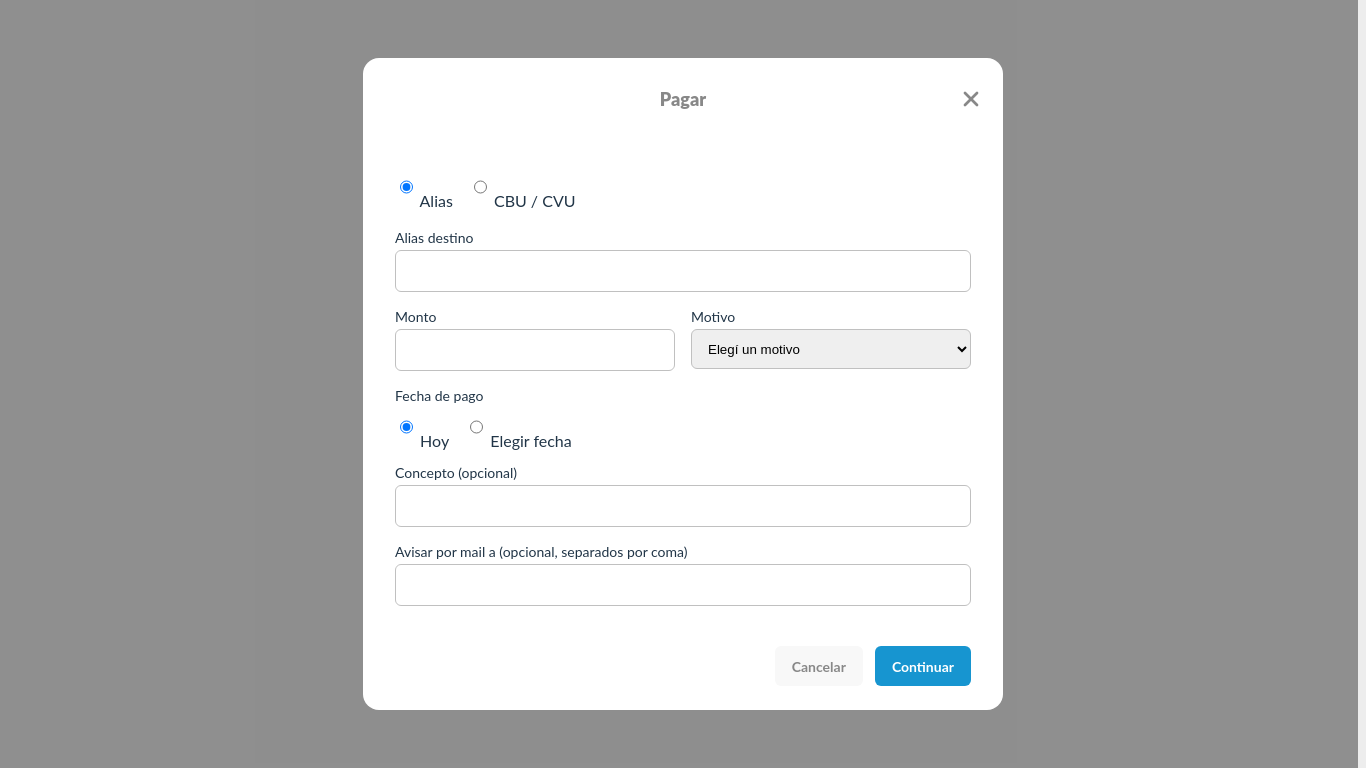
it: PaymentModal › arranca en Hoy y pide la fecha cuando se elige programarlo
expect the radio button labelled "Hoy" is checked: met, box 400,406 -> 413,446
Step 1. Type "prov.alias" into the field labelled "Alias destino" → {"x": 683, "y": 271}, box 395,250 -> 971,292
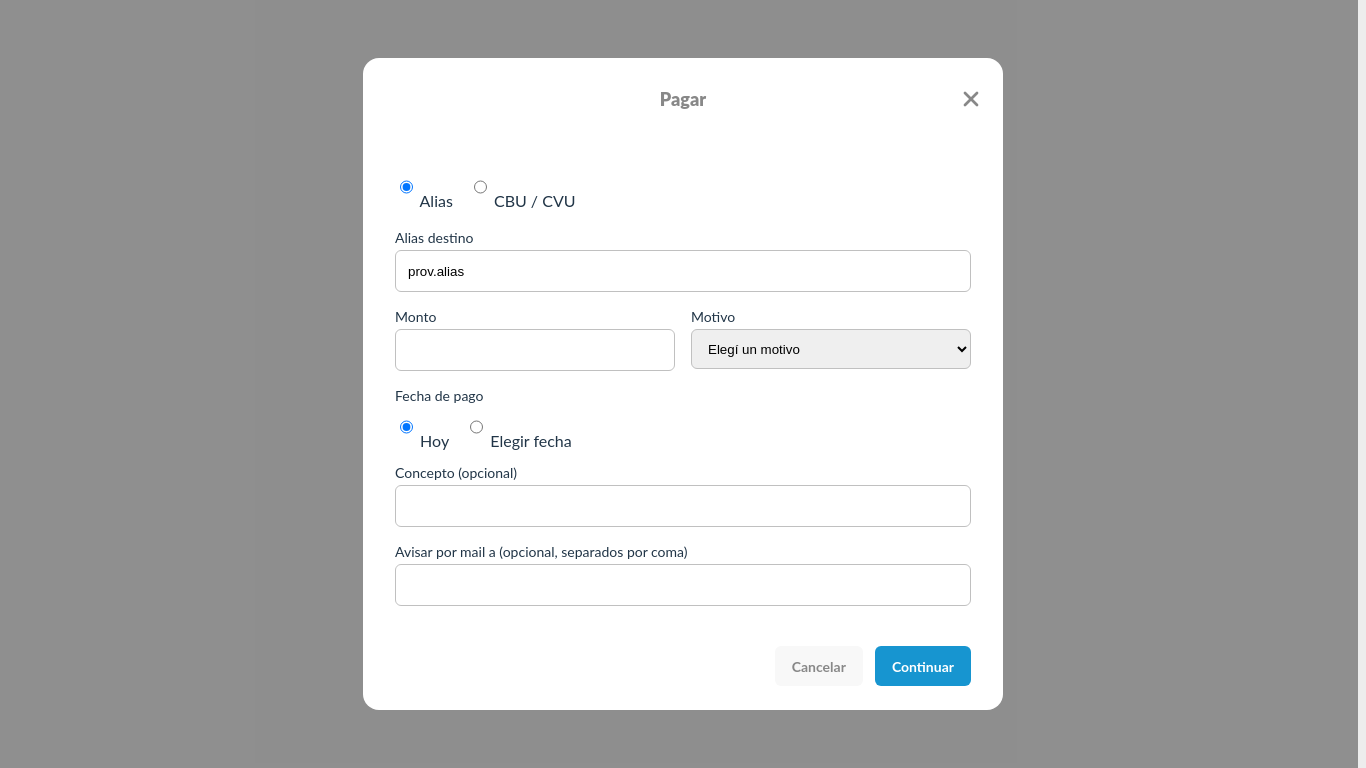
Step 2. Type "100" into the number field labelled "Monto" → {"x": 535, "y": 350}, box 395,329 -> 675,371
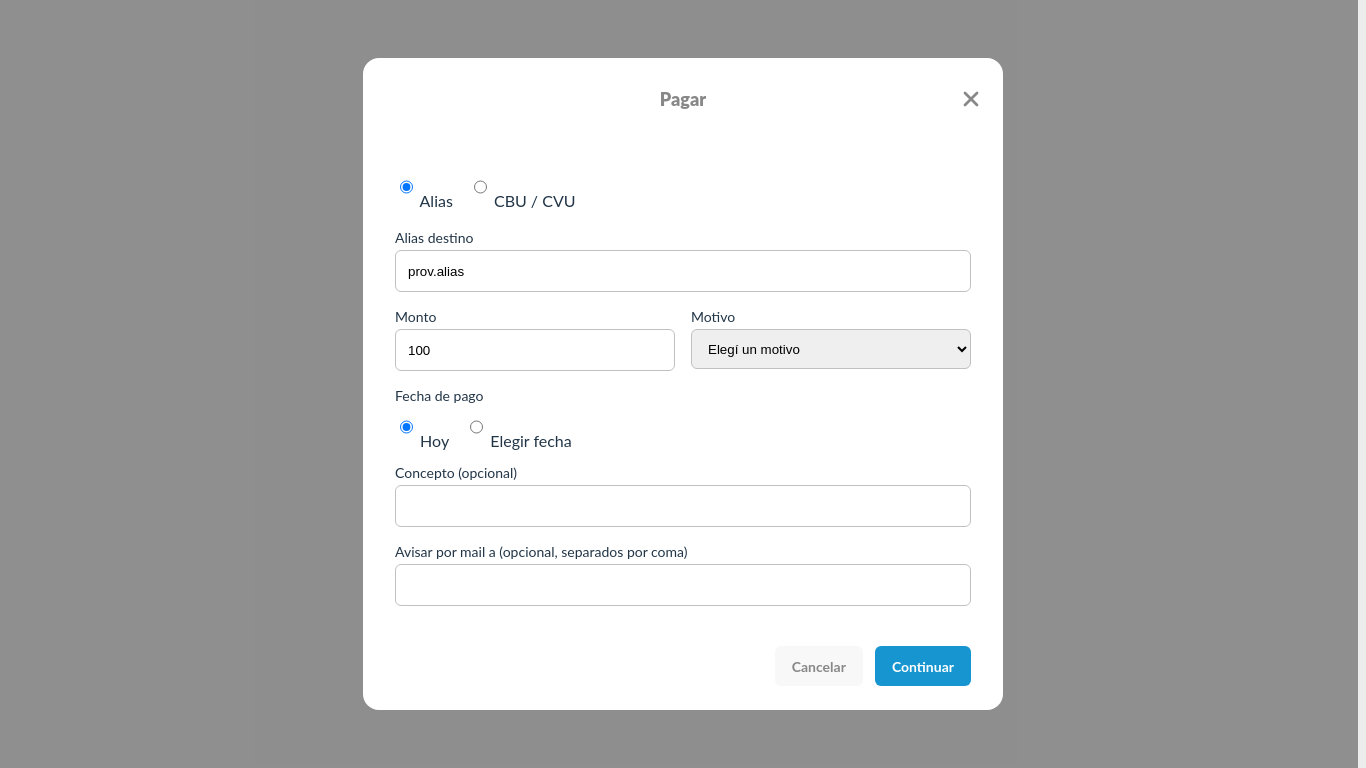
Step 3. Select "Honorarios" in the dropdown labelled "Motivo" → {"x": 831, "y": 349}, box 691,329 -> 971,369
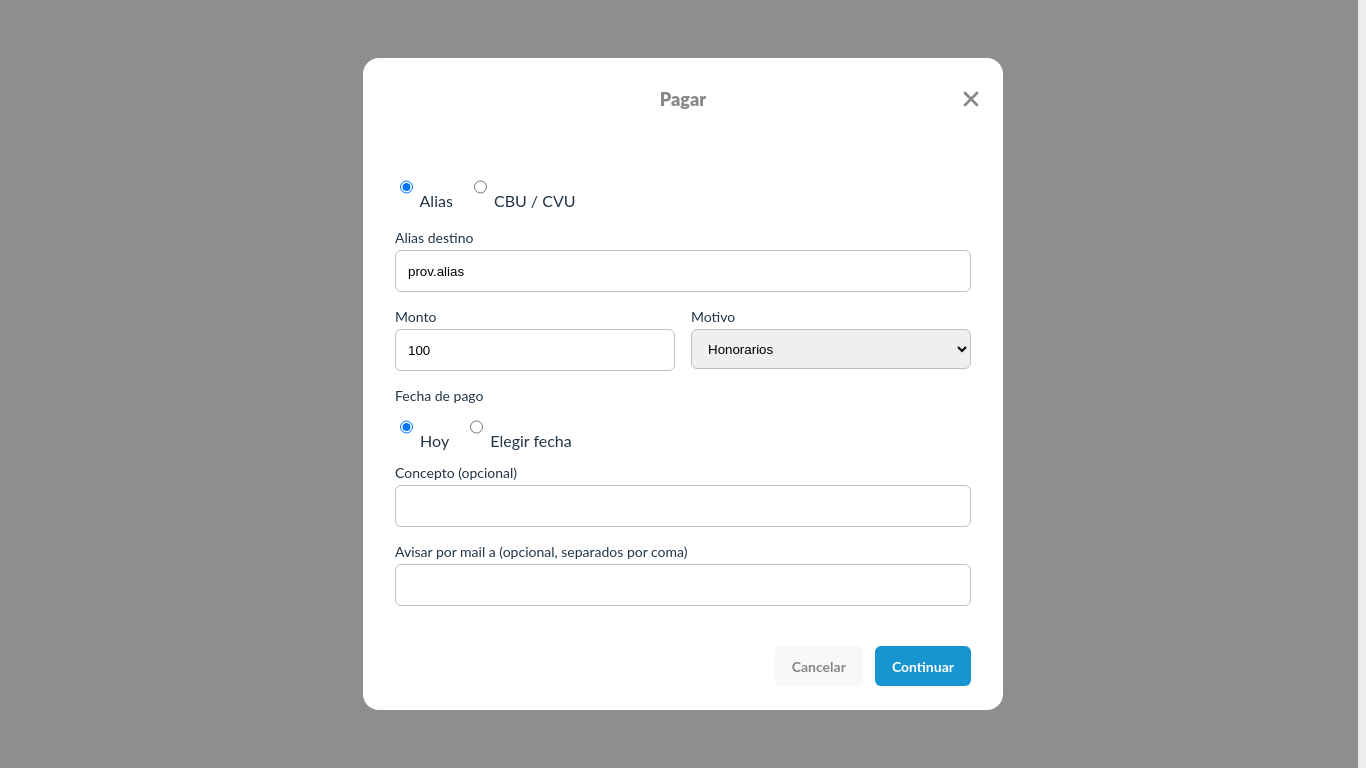
Step 4. Click the radio button labelled "Elegir fecha" → {"x": 477, "y": 426}, box 470,406 -> 483,446
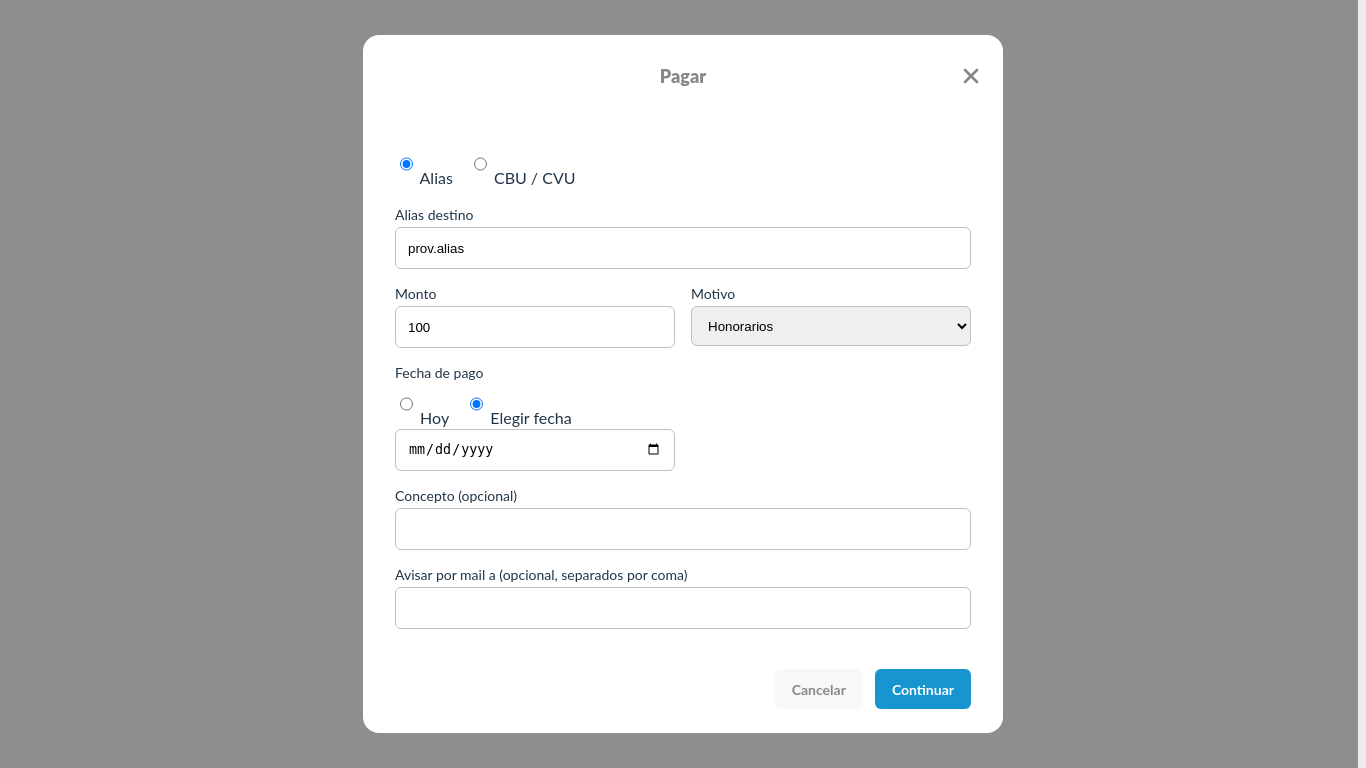
Step 5. Click the button "Continuar" → {"x": 923, "y": 689}, box 875,669 -> 971,709
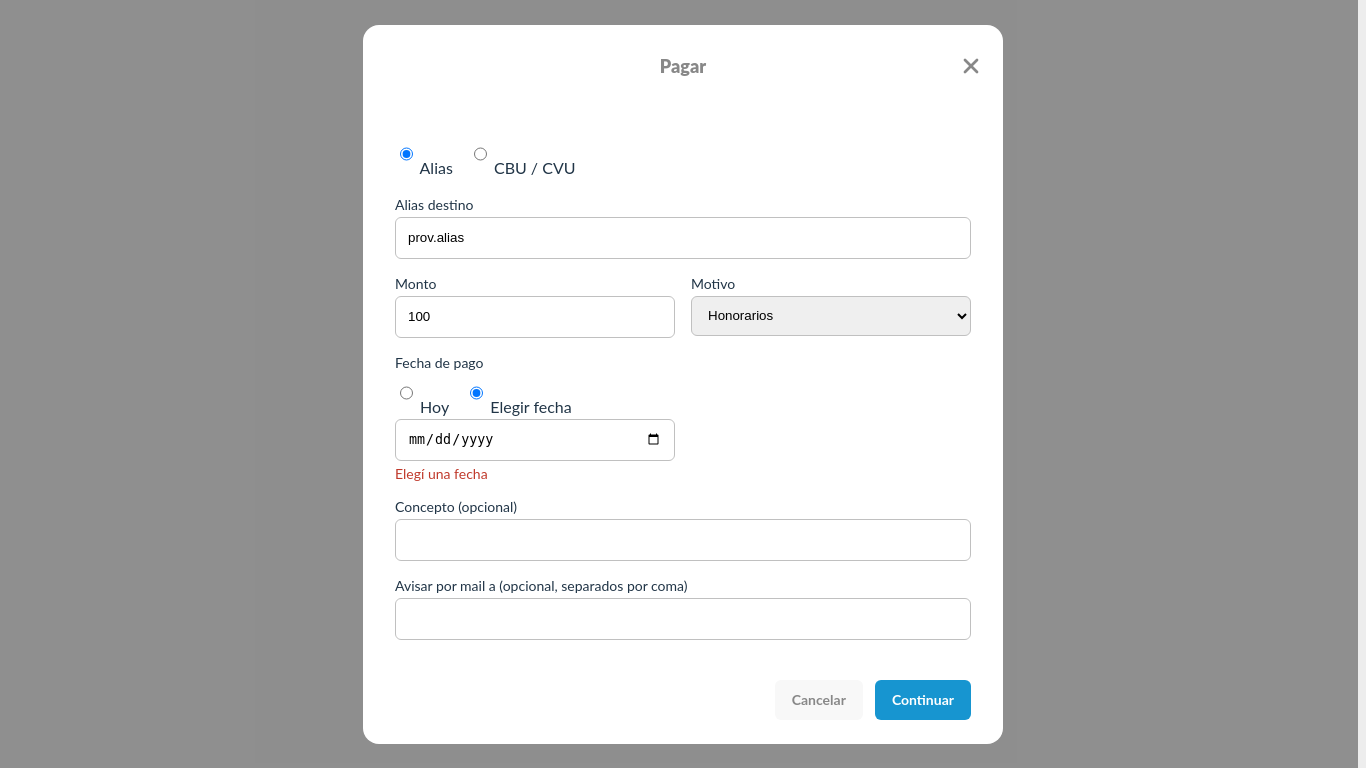
expect the text "Elegí una fecha" is shown: met, box 395,464 -> 488,482
